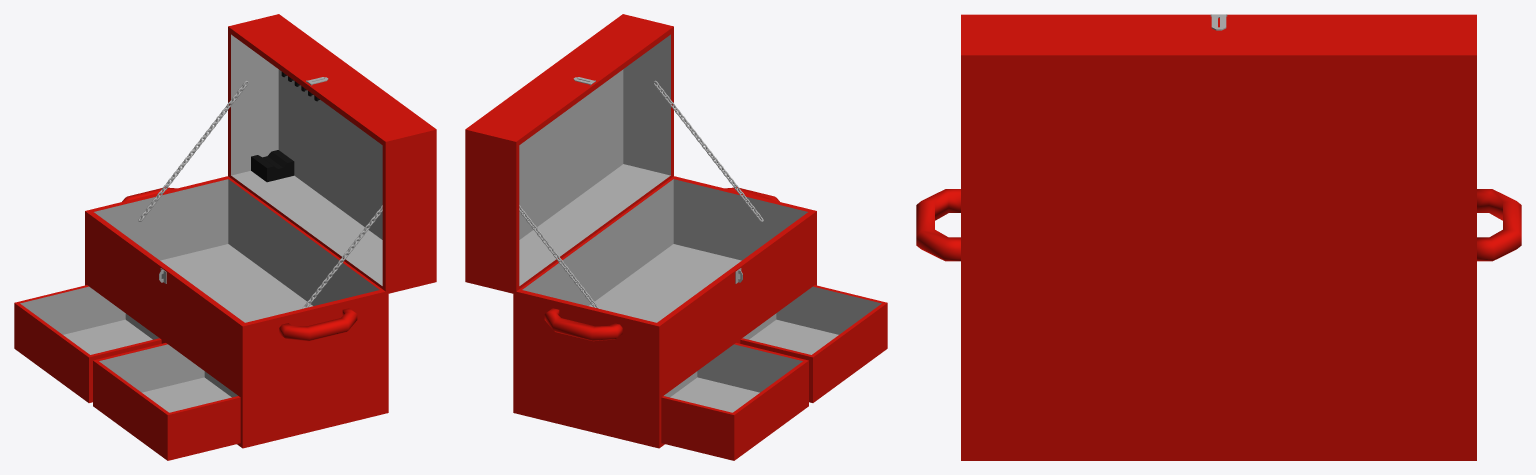
File: Toolbox.fbx
The picture shows the model from 3 angles, left to right: view 1: azimuth 30°, elevation 25°; view 2: azimuth 150°, elevation 25°; view 3: azimuth 270°, elevation 25°; orthographic projection. The views are drawn at different scales.
Parts seen in each view (by area): view 1: ToolsBox; view 2: ToolsBox; view 3: ToolsBox.
Part boxes in pixels (box(x1,y1,x2,y2)): ToolsBox: box(14, 14, 436, 460); ToolsBox: box(465, 14, 887, 460); ToolsBox: box(916, 14, 1521, 460).
Size of the model in its own units: 73.25 by 71.67 by 88.
